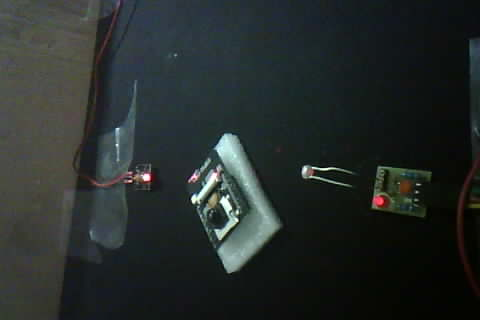esp32: (183, 135, 271, 267)
